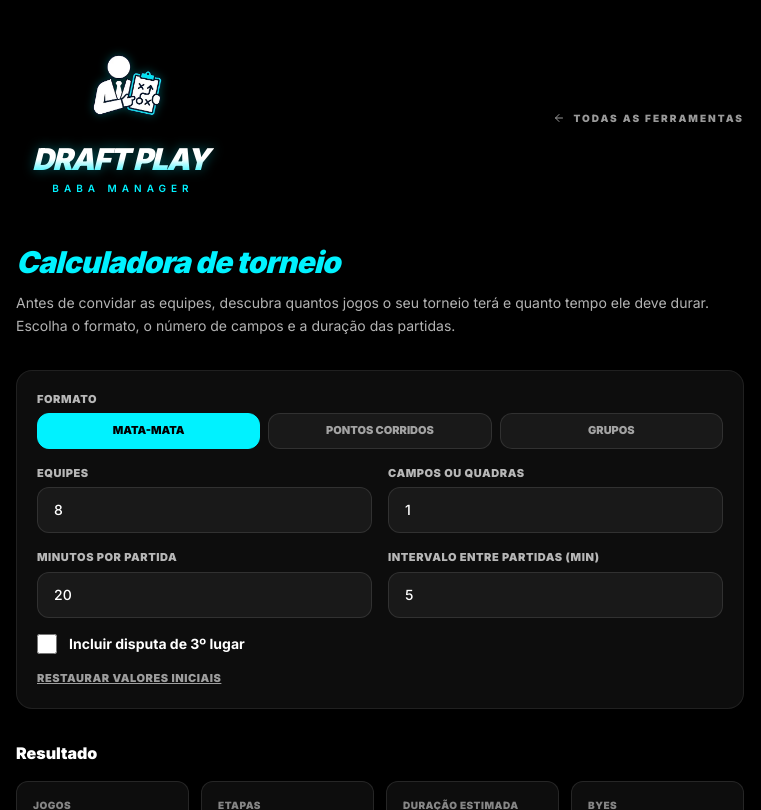
Test case: Calculadora de torneio › campo vazio não quebra
This screenshot has width=761, height=810.
Clear the number field labelled "Equipes" at (204, 510), box [37,487,372,533]
(page scrolled)
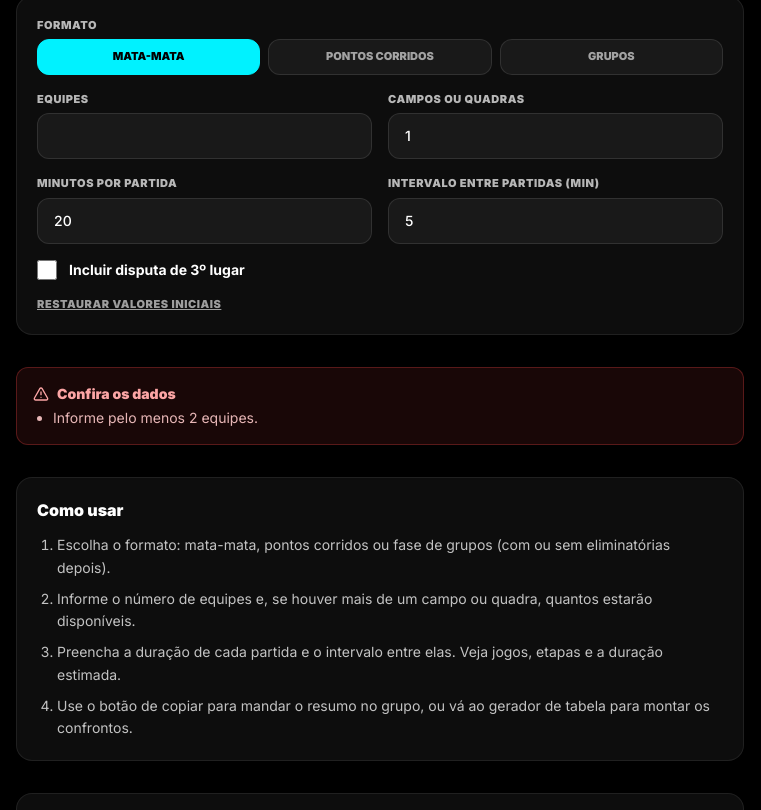
Now the message "Confira os dados Informe pelo menos 2 equipes." is shown, box [16,367,744,445]
